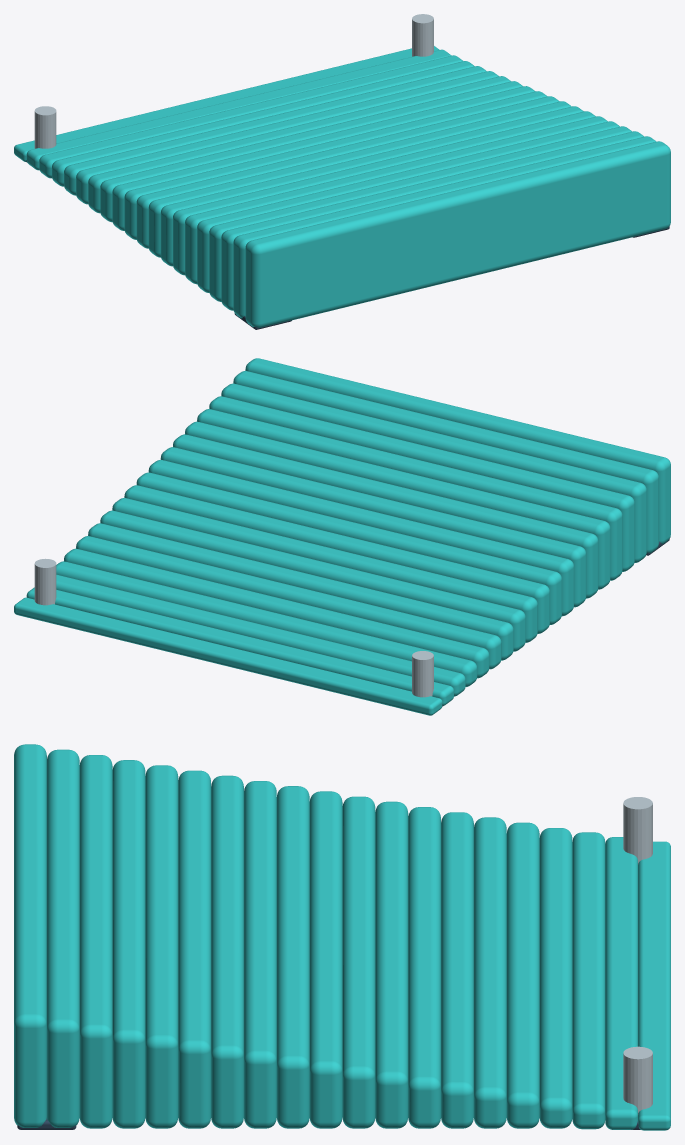
File: party-obstacle-course-party-obstacle-course-rising-ram-556e7e88__28927.glb
3 renders of one model, top to bottom at view 1: azimuth 30°, elevation 25°; view 2: azimuth 150°, elevation 25°; view 3: azimuth 270°, elevation 25°, orthographic. The views are drawn at different scales.
Visible parts, largest first — view 1: party-obstacle-course-rising-ramp; view 2: party-obstacle-course-rising-ramp; view 3: party-obstacle-course-rising-ramp.
Part boxes in pixels (x1,y1,x2,y2): party-obstacle-course-rising-ramp: [14, 14, 670, 329]; party-obstacle-course-rising-ramp: [14, 358, 670, 715]; party-obstacle-course-rising-ramp: [14, 744, 670, 1130].
Bounding box in the file's own units: 4 × 0.7652 × 4.
